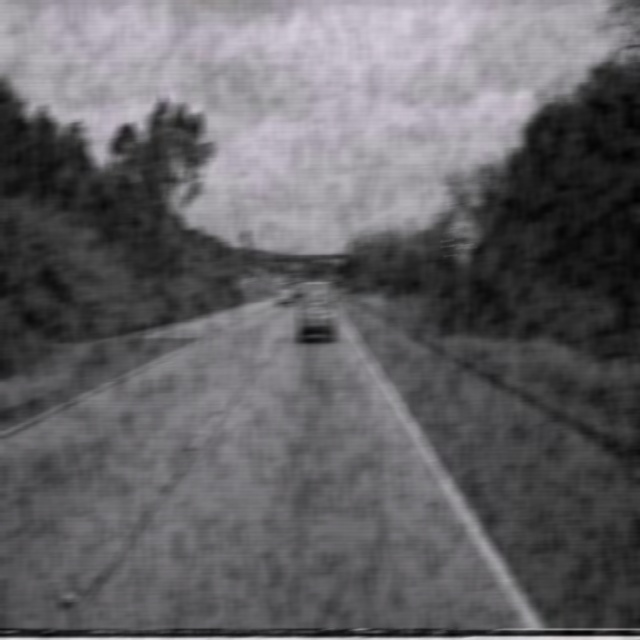thruTrafficMergeLeft: (446, 200, 480, 268)
